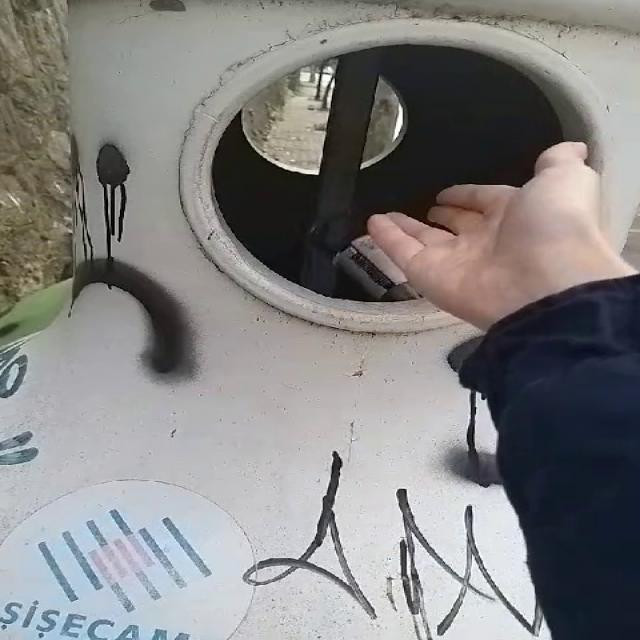glass: (333, 236, 421, 302), (357, 269, 364, 273)
